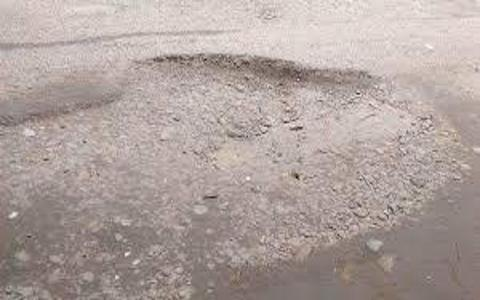patchy roads: (21, 42, 466, 271)
